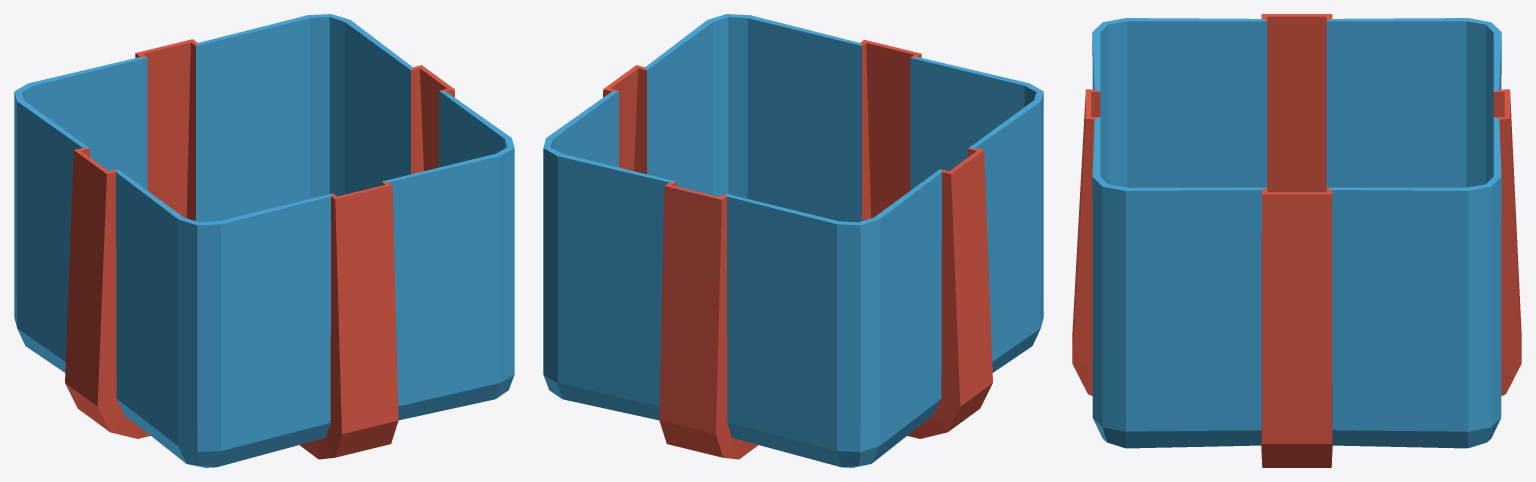
Rendered from BoxBottom.glb.
The picture shows the model from 3 angles, left to right: view 1: azimuth 30°, elevation 25°; view 2: azimuth 150°, elevation 25°; view 3: azimuth 270°, elevation 25°; orthographic projection. The views are drawn at different scales.
Visible parts, largest first — view 1: BoxBottom; view 2: BoxBottom; view 3: BoxBottom.
Boxes of the visible parts, x1,y1,x2,y2 form: BoxBottom: [14, 14, 514, 467]; BoxBottom: [543, 14, 1043, 467]; BoxBottom: [1072, 14, 1521, 467].
Size of the model in its own units: 0.9611 by 0.6872 by 0.9611.
